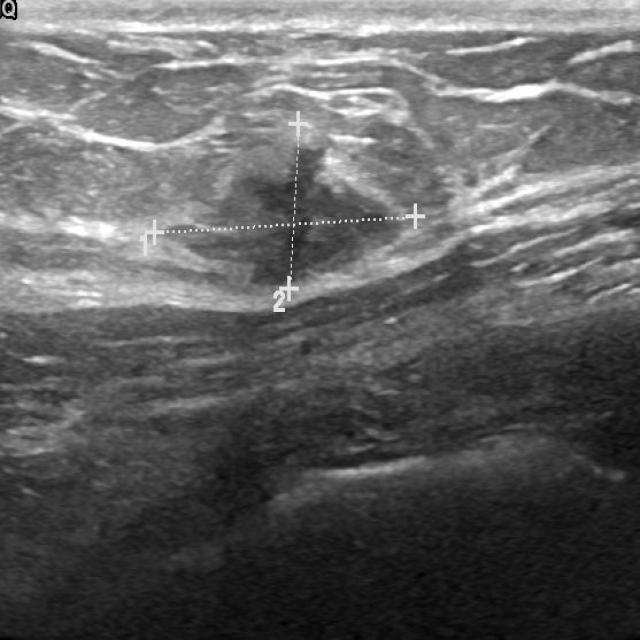Malignant: (218, 136, 398, 296)
